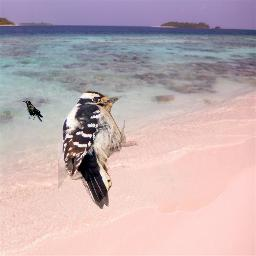Crow: (22, 100, 43, 122)
Woodpecker: (58, 89, 138, 209)
